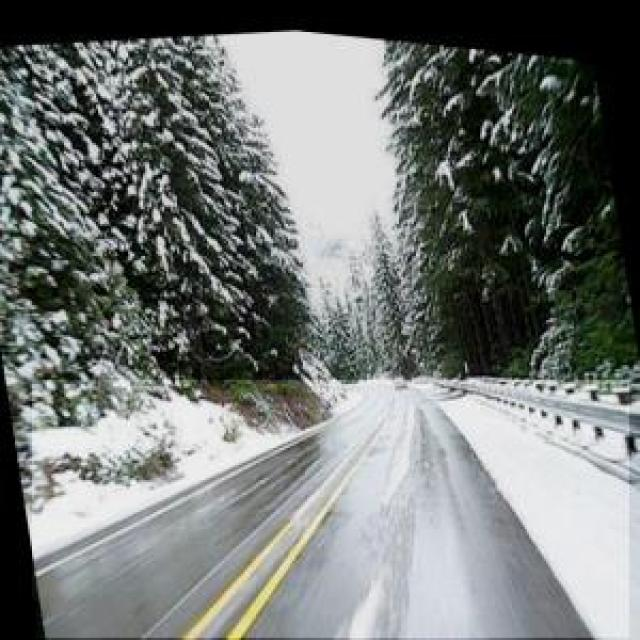ice-road: (33, 381, 629, 640)
